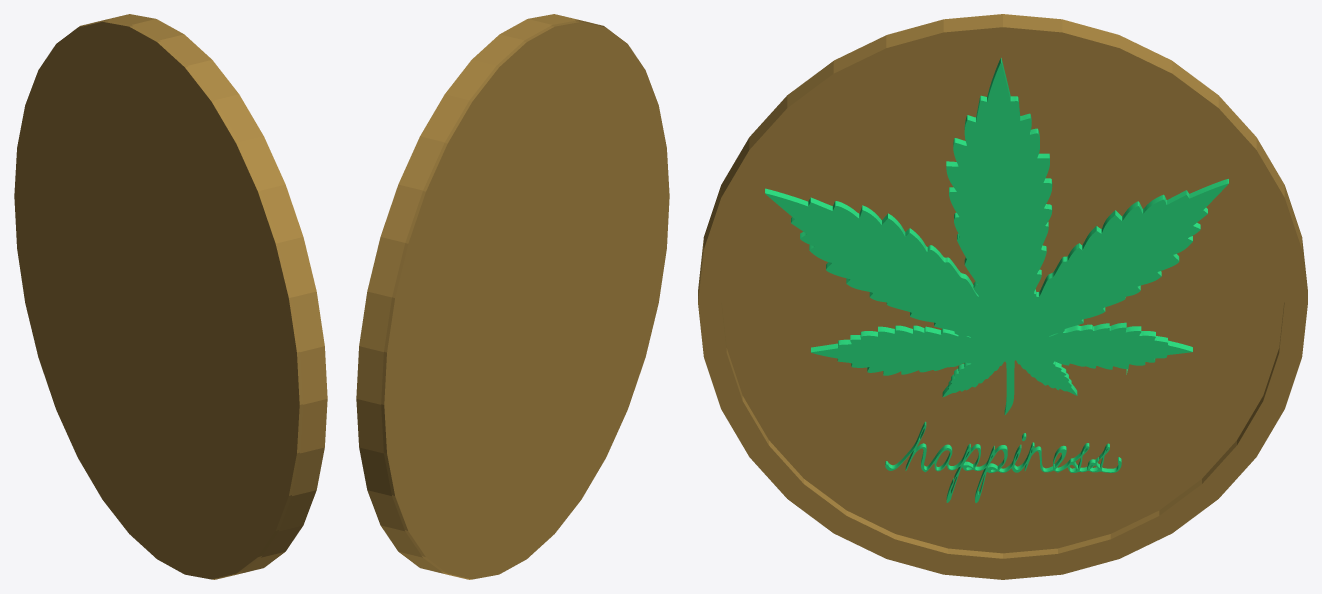
File: Moneta.fbx
3 renders of one model, left to right at view 1: azimuth 30°, elevation 25°; view 2: azimuth 150°, elevation 25°; view 3: azimuth 270°, elevation 25°, orthographic. The views are drawn at different scales.
Parts seen in each view (by area): view 1: Moneta; view 2: Moneta; view 3: Moneta, Foglia, Scritta.
Boxes of the visible parts, <box> form: Moneta: <box>14,14,327,579</box>; Moneta: <box>356,14,669,579</box>; Moneta: <box>698,14,1307,579</box>; Foglia: <box>765,58,1228,414</box>; Scritta: <box>885,421,1121,502</box>.
Size of the model in its own units: 15.48 by 200 by 200.
